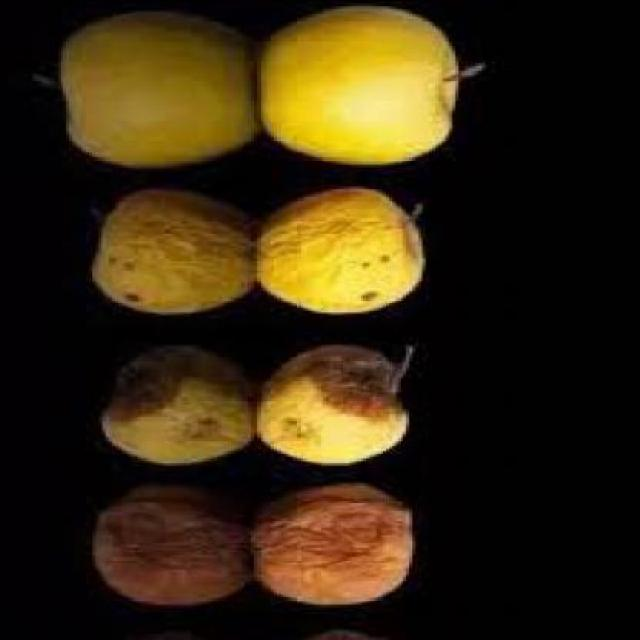BIODEGRADABLE: (36, 7, 264, 165), (264, 5, 482, 161), (260, 180, 435, 309), (95, 185, 257, 308), (261, 477, 419, 600), (261, 342, 419, 462), (98, 480, 254, 600), (103, 341, 254, 462)
